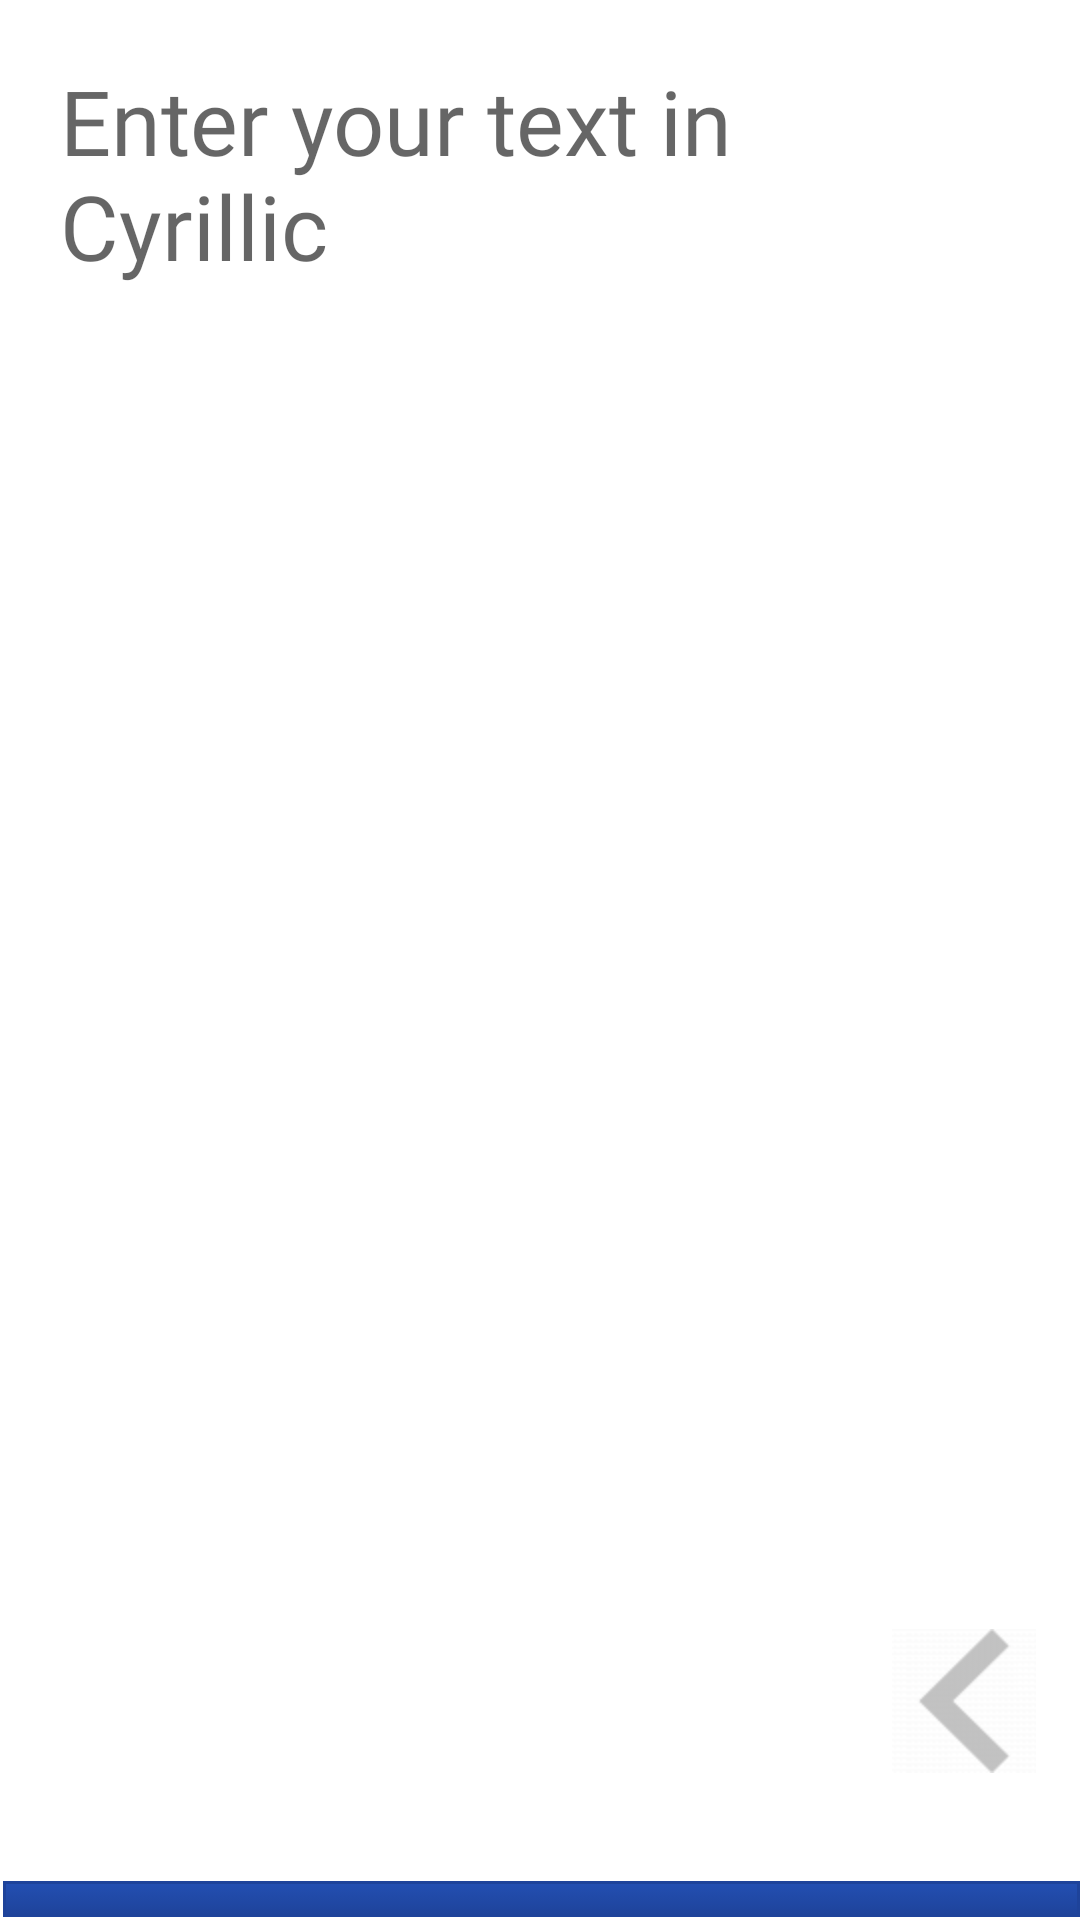

Screen size 1080 x 1920. Icon name, then its box in pixels as (x1, y1, x2, y2):
backbutton: (920, 1629, 1008, 1773)
